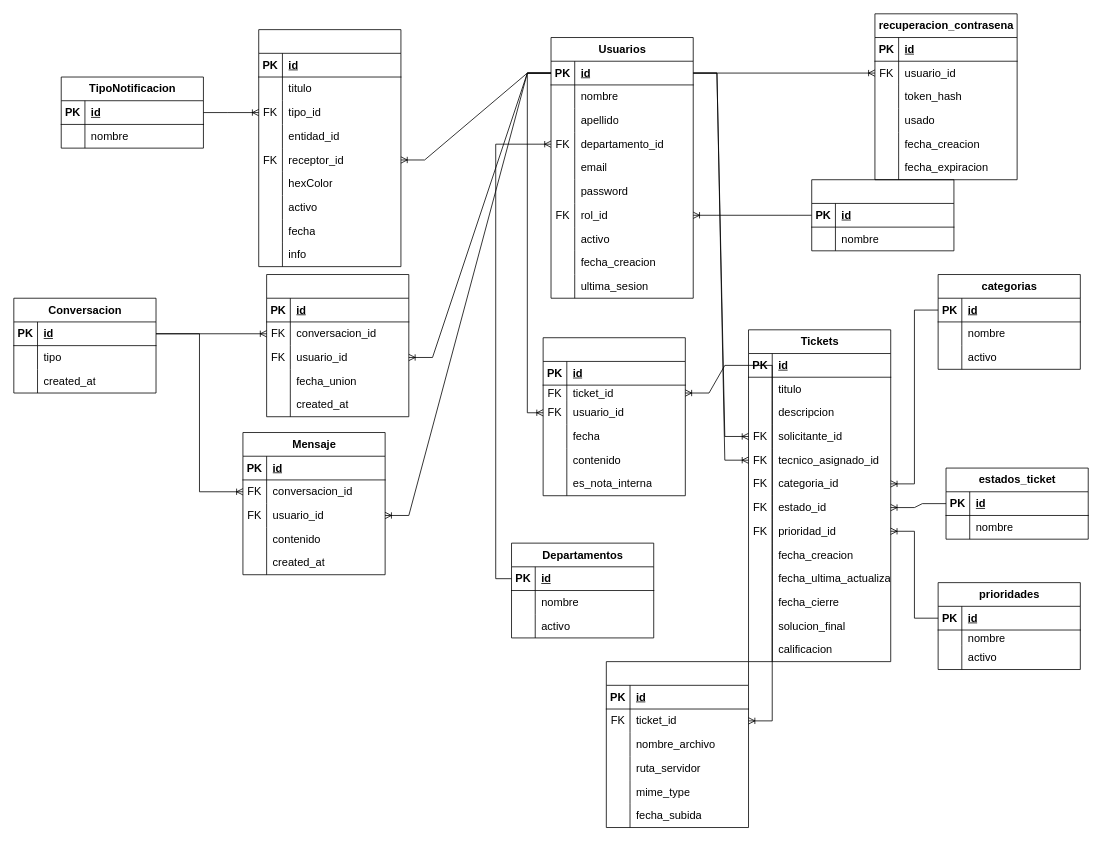
The diagram is 1102 pixels wide and 841 high, and some of its shapes have lost their labels. Here are the shapes that lost their labels. From the top down, the box of each, then its label:
(258, 29, 401, 267): Notificaciones
(811, 179, 954, 251): rol
(266, 274, 409, 417): ConversacionParticipantes
(542, 337, 685, 496): Comentarios
(606, 661, 749, 828): archivos_adjuntos
